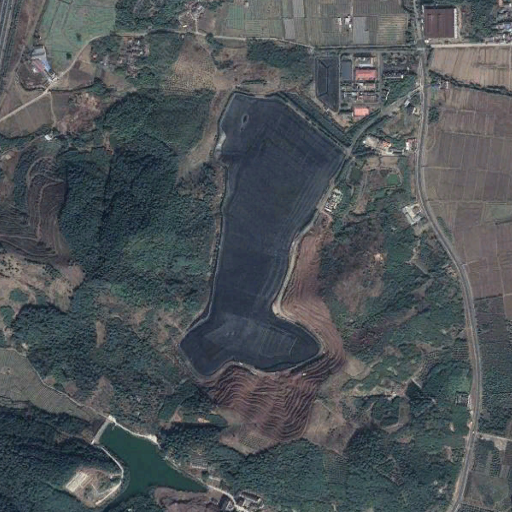lf: (177, 89, 351, 384)
